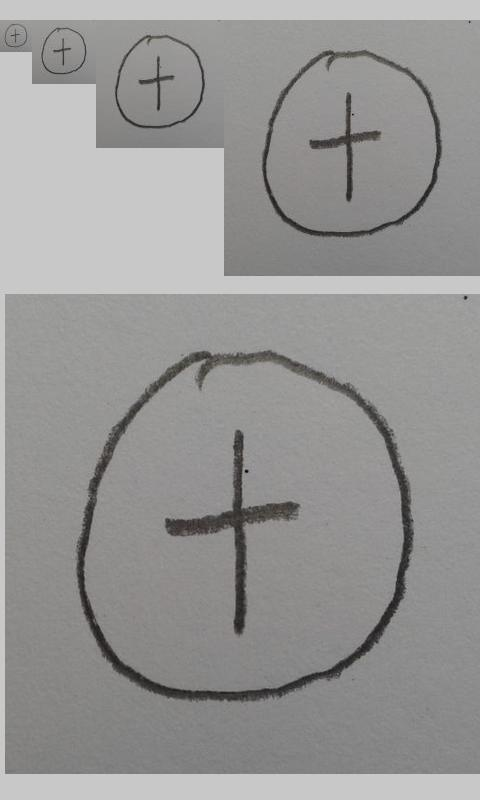button: (72, 345, 415, 705), (261, 48, 442, 238), (114, 34, 206, 130), (41, 27, 87, 75), (4, 23, 28, 48)
